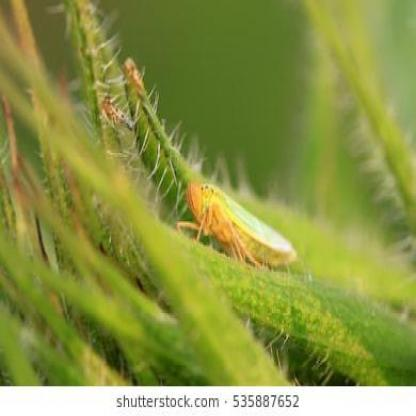Green-Leafhopper: (176, 178, 302, 275)
